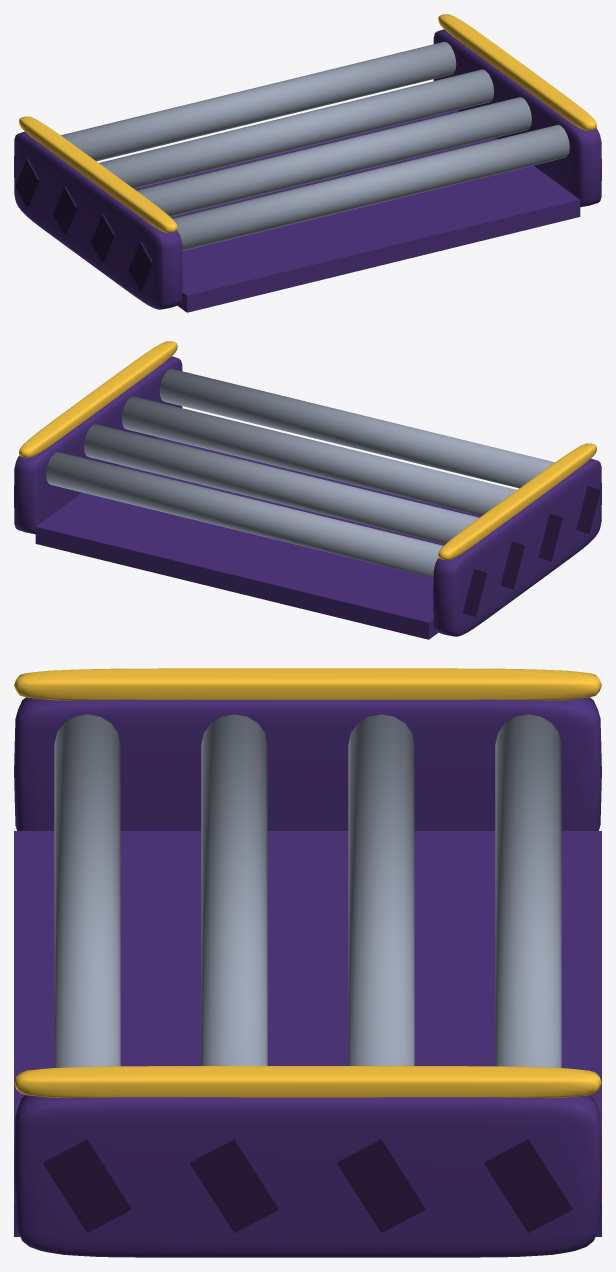
Rendered from P_BeltSegment.fbx.
The picture shows the model from 3 angles, top to bottom: view 1: azimuth 30°, elevation 25°; view 2: azimuth 150°, elevation 25°; view 3: azimuth 270°, elevation 25°; orthographic projection. The views are drawn at different scales.
Visible parts, largest first — view 1: P_BeltSegment__Roller, P_BeltSegment__Frame, P_BeltSegment__Rail, P_BeltSegment__Stripe; view 2: P_BeltSegment__Roller, P_BeltSegment__Frame, P_BeltSegment__Rail, P_BeltSegment__Stripe; view 3: P_BeltSegment__Frame, P_BeltSegment__Roller, P_BeltSegment__Rail, P_BeltSegment__Stripe.
Boxes of the visible parts, x1,y1,x2,y2 form: P_BeltSegment__Roller: (61,41,569,250); P_BeltSegment__Frame: (14,29,601,312); P_BeltSegment__Rail: (19,14,596,233); P_BeltSegment__Stripe: (15,159,153,289); P_BeltSegment__Roller: (46,368,554,577); P_BeltSegment__Frame: (14,356,601,639); P_BeltSegment__Rail: (19,341,596,560); P_BeltSegment__Stripe: (462,486,600,616); P_BeltSegment__Frame: (14,697,601,1257); P_BeltSegment__Roller: (54,714,561,1067); P_BeltSegment__Rail: (14,668,601,1098); P_BeltSegment__Stripe: (43,1139,572,1232).
Size of the model in its own units: 13.72 by 2.68 by 8.
